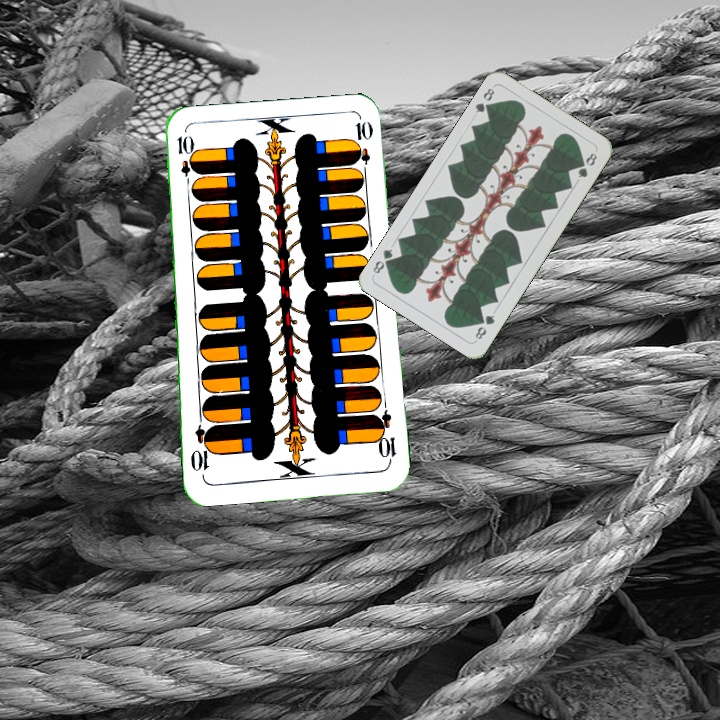E10: (371, 407, 399, 466), (173, 131, 195, 190)
G8: (471, 311, 498, 342), (471, 84, 497, 116)
